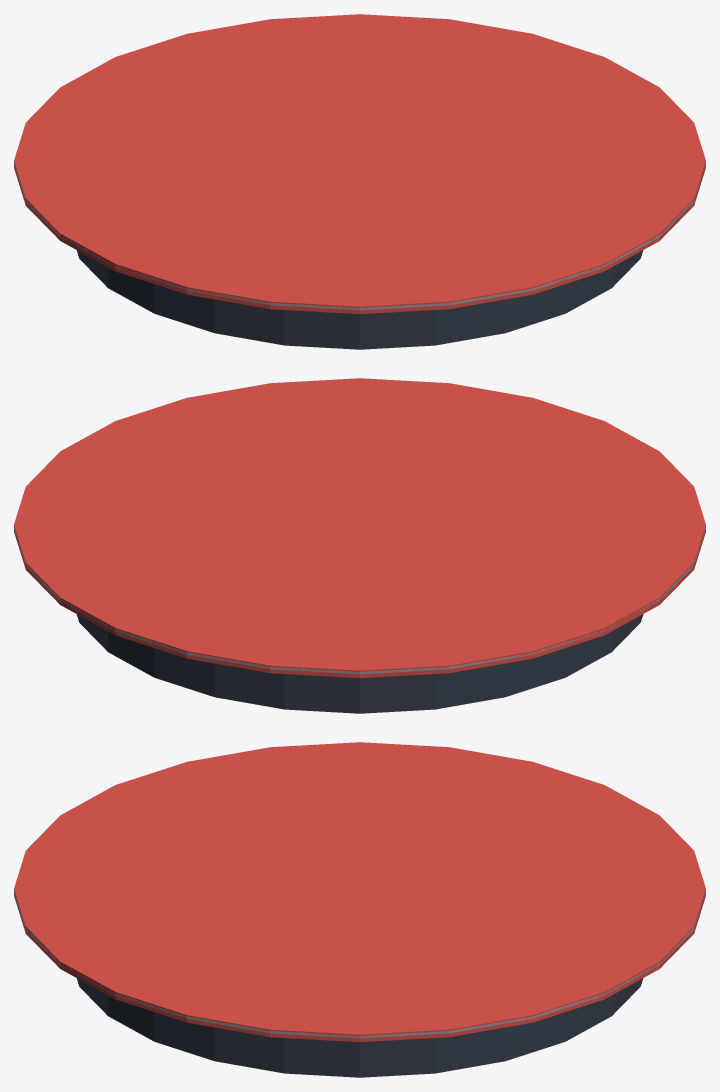
File: Skate_Bowl.fbx
3 views of the same model, one above another, from view 1: azimuth 30°, elevation 25°; view 2: azimuth 150°, elevation 25°; view 3: azimuth 270°, elevation 25° (orthographic).
Visible parts, largest first — view 1: Bowl; view 2: Bowl; view 3: Bowl.
Part boxes in pixels (box(x1,y1,x2,y2)): Bowl: box(14, 14, 705, 349); Bowl: box(14, 378, 705, 713); Bowl: box(14, 742, 705, 1077).
Size of the model in its own units: 10 by 1.06 by 10.
